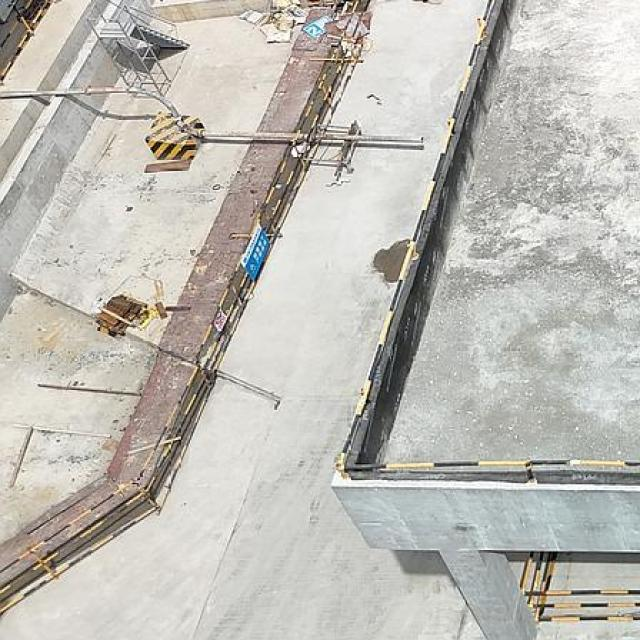edge_guardrail: (335, 0, 640, 484), (520, 552, 640, 622)
